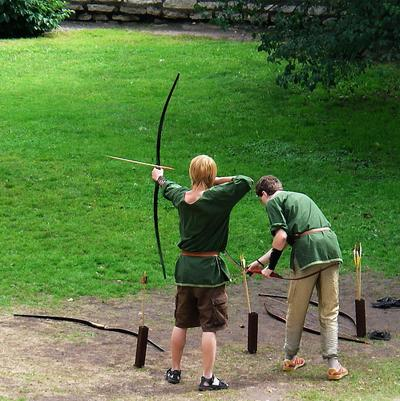person: (153, 156, 257, 390)
